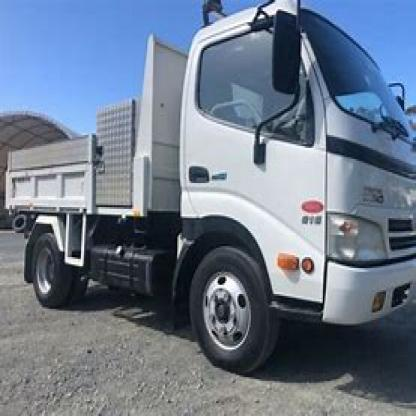dump_truck: (7, 15, 414, 381)
